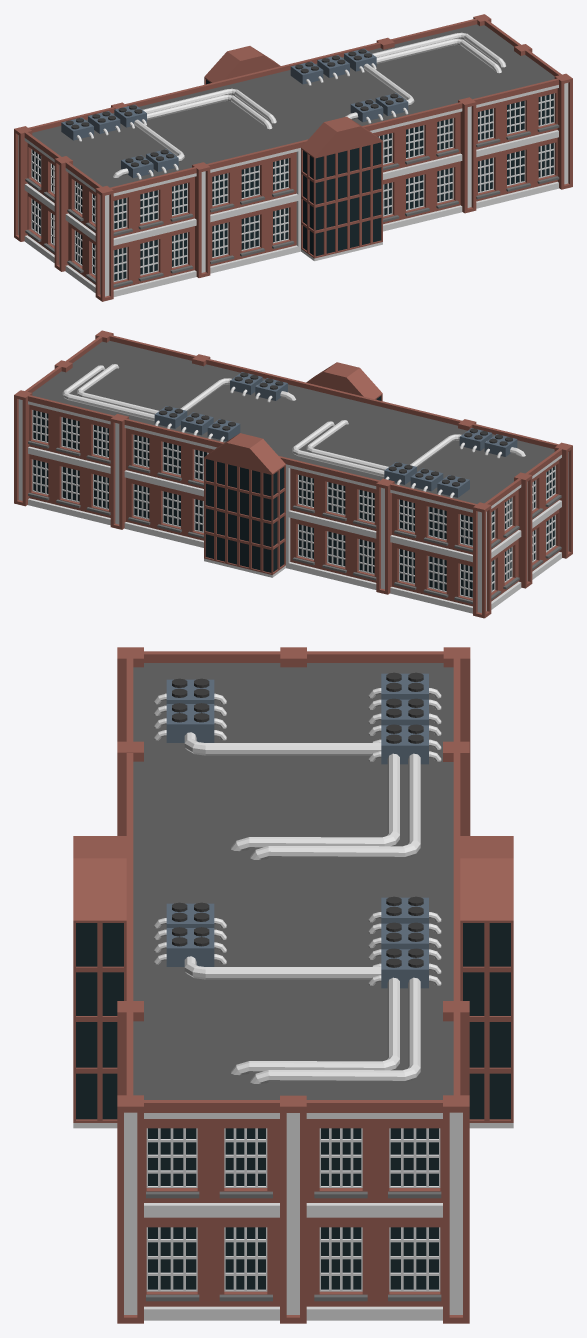
File: 10 Hotel.fbx
3 views of the same model, one above another, from view 1: azimuth 30°, elevation 25°; view 2: azimuth 150°, elevation 25°; view 3: azimuth 270°, elevation 25° (orthographic). The views are drawn at different scales.
Visible parts, largest first — view 1: Hotel; view 2: Hotel; view 3: Hotel.
Part boxes in pixels (box(x1,y1,x2,y2)): Hotel: box(14, 14, 572, 301); Hotel: box(14, 330, 572, 618); Hotel: box(73, 647, 513, 1323).
Bounding box in the file's own units: 814 × 205 × 330.
